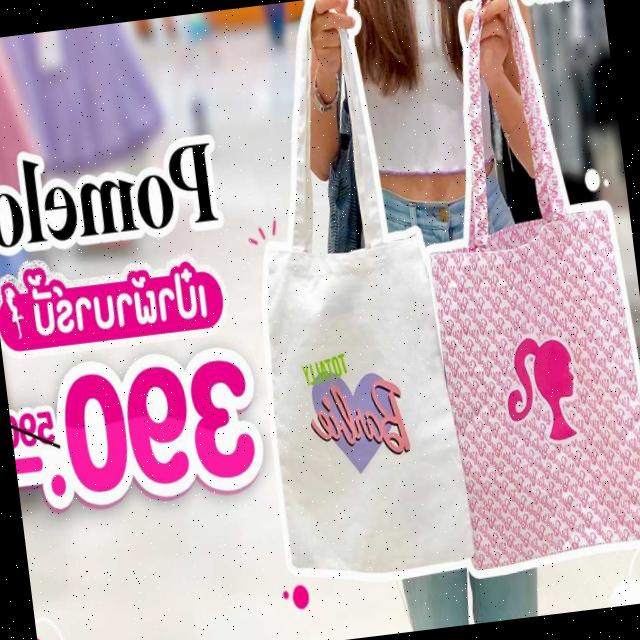handbag: (393, 0, 640, 582)
